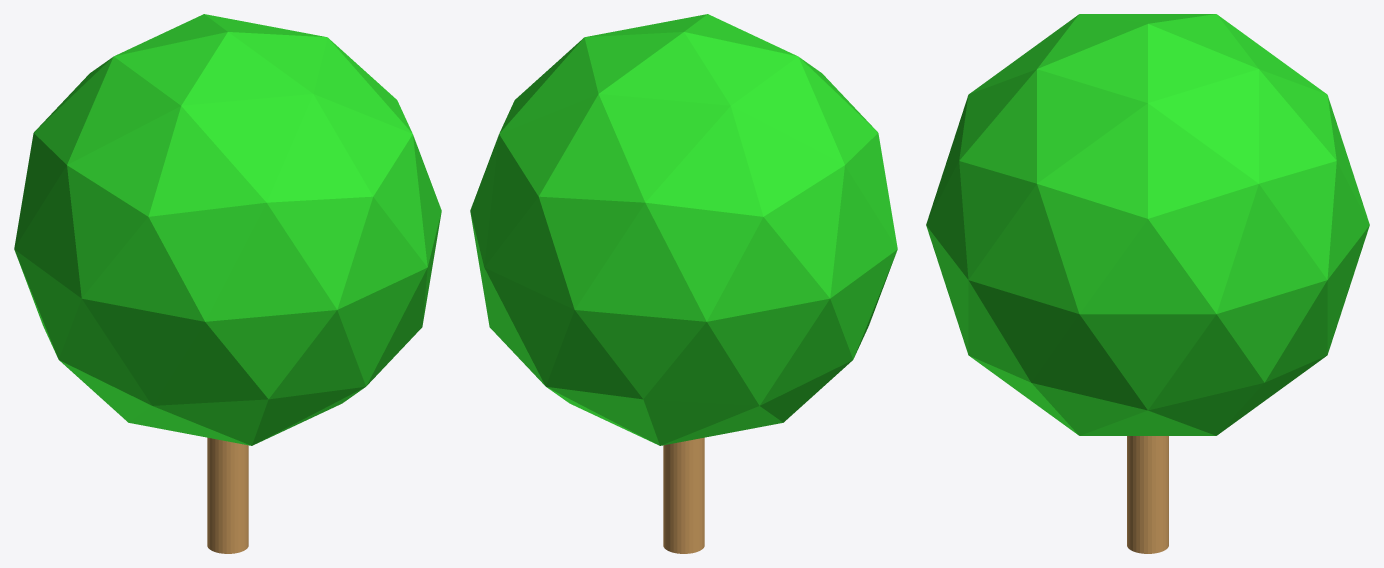
File: big tree.fbx
3 views of the same model, side by side, from view 1: azimuth 30°, elevation 25°; view 2: azimuth 150°, elevation 25°; view 3: azimuth 270°, elevation 25° (orthographic).
Parts seen in each view (by area): view 1: Icosphere; view 2: Icosphere; view 3: Icosphere.
Boxes of the visible parts, x1=… form: Icosphere: x1=14, y1=14, x2=441, y2=553; Icosphere: x1=470, y1=14, x2=897, y2=553; Icosphere: x1=926, y1=14, x2=1369, y2=553.
Size of the model in its own units: 1489 by 2028 by 1566.
